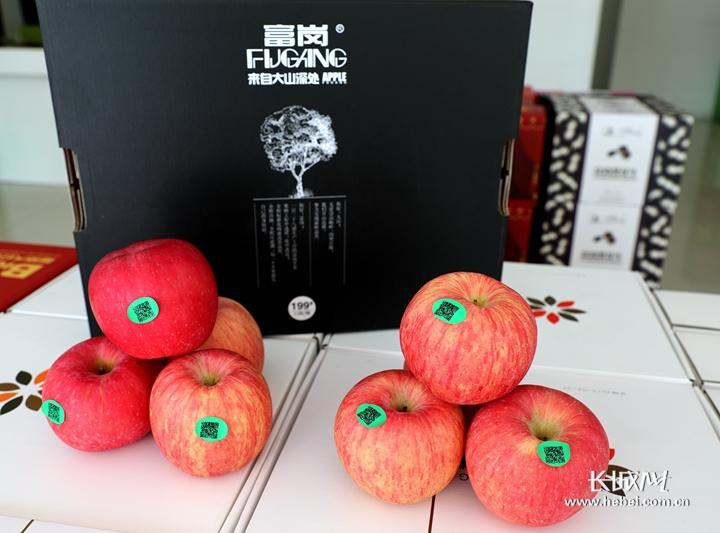apple: (465, 383, 614, 525), (397, 272, 538, 407), (335, 368, 469, 505), (146, 349, 274, 477), (87, 237, 219, 358), (38, 338, 156, 454), (197, 297, 264, 369)
